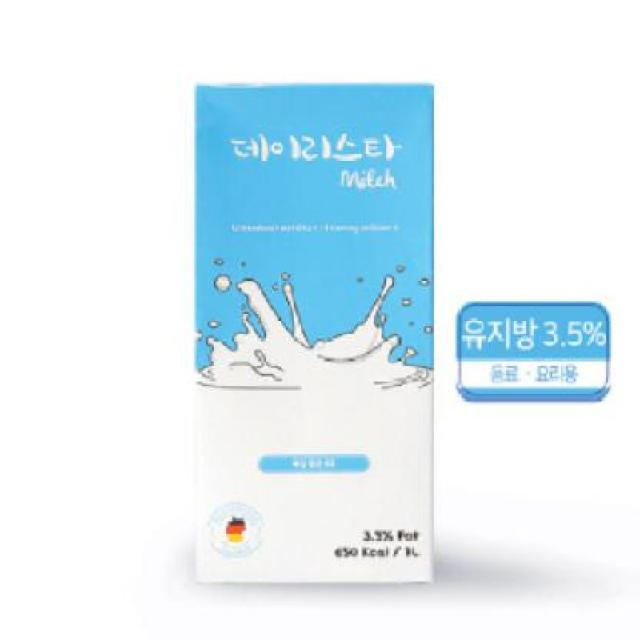tetra: (162, 44, 462, 614)
